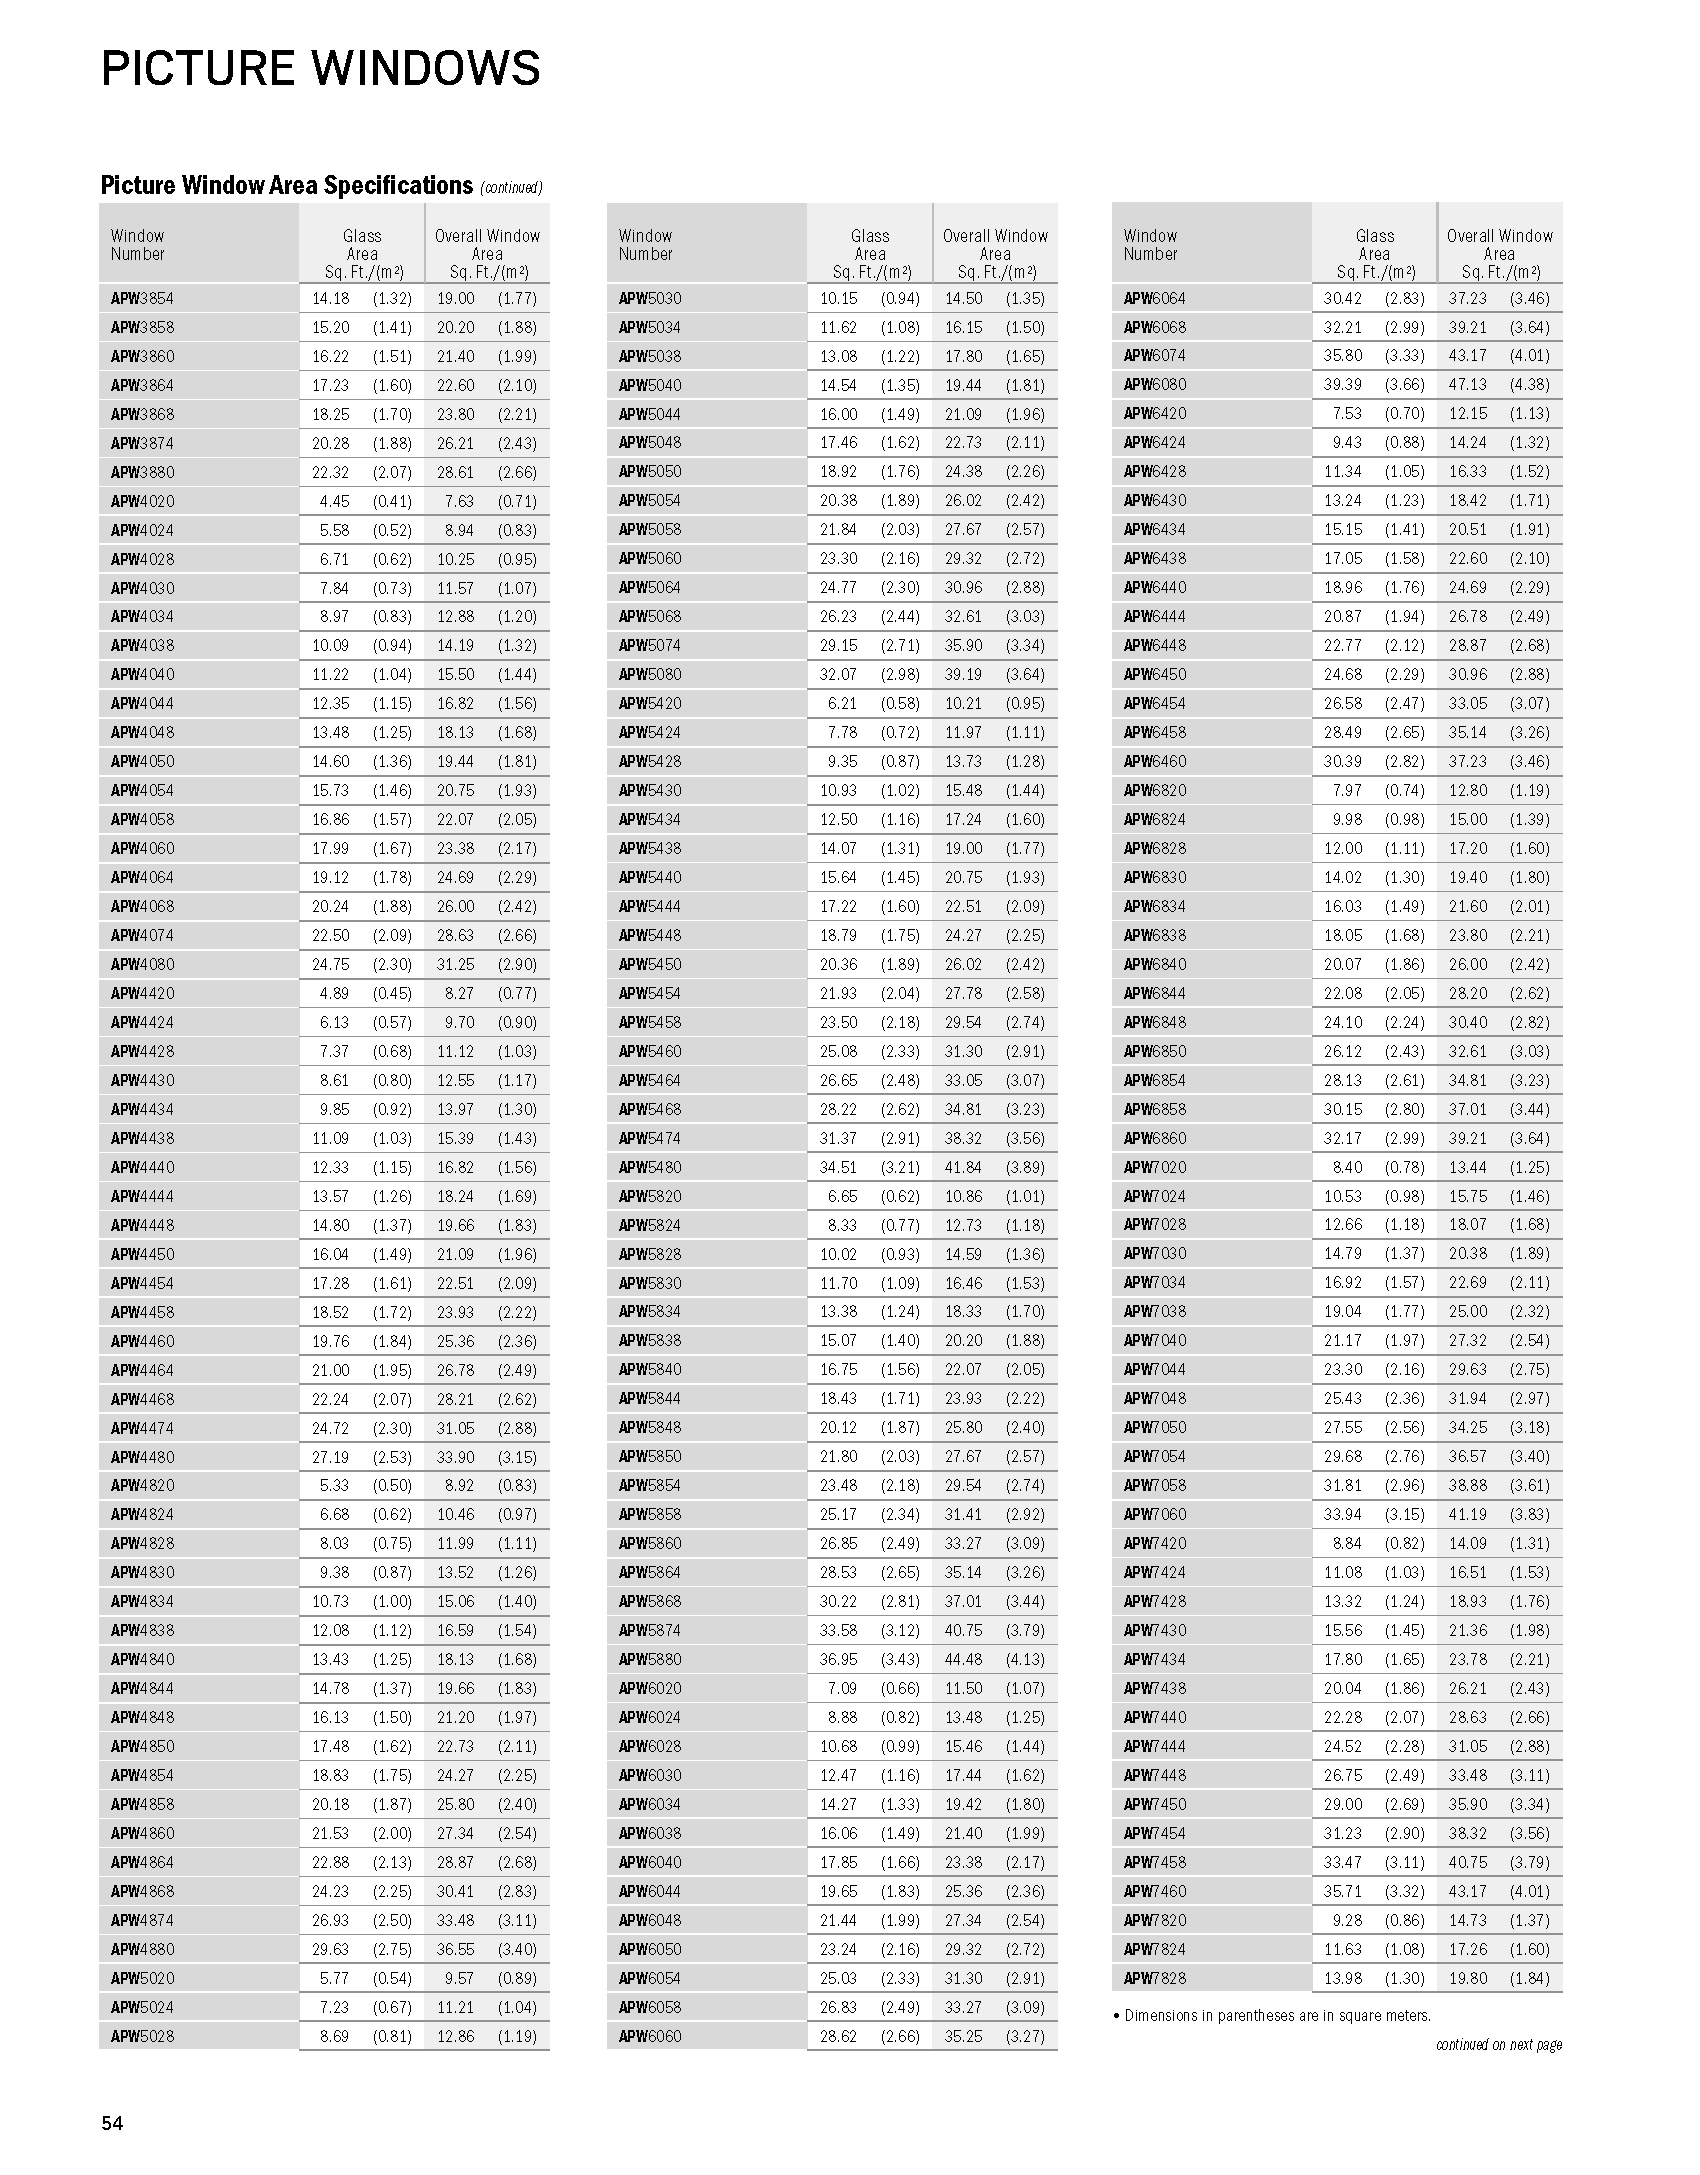tabledetected: (606, 199, 1057, 2053), (99, 203, 549, 2053), (1112, 203, 1564, 1991)
